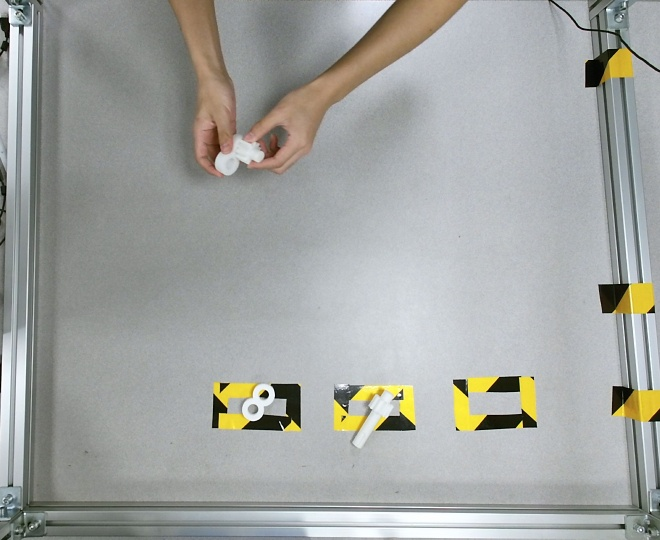stage_2: (214, 134, 264, 175)
